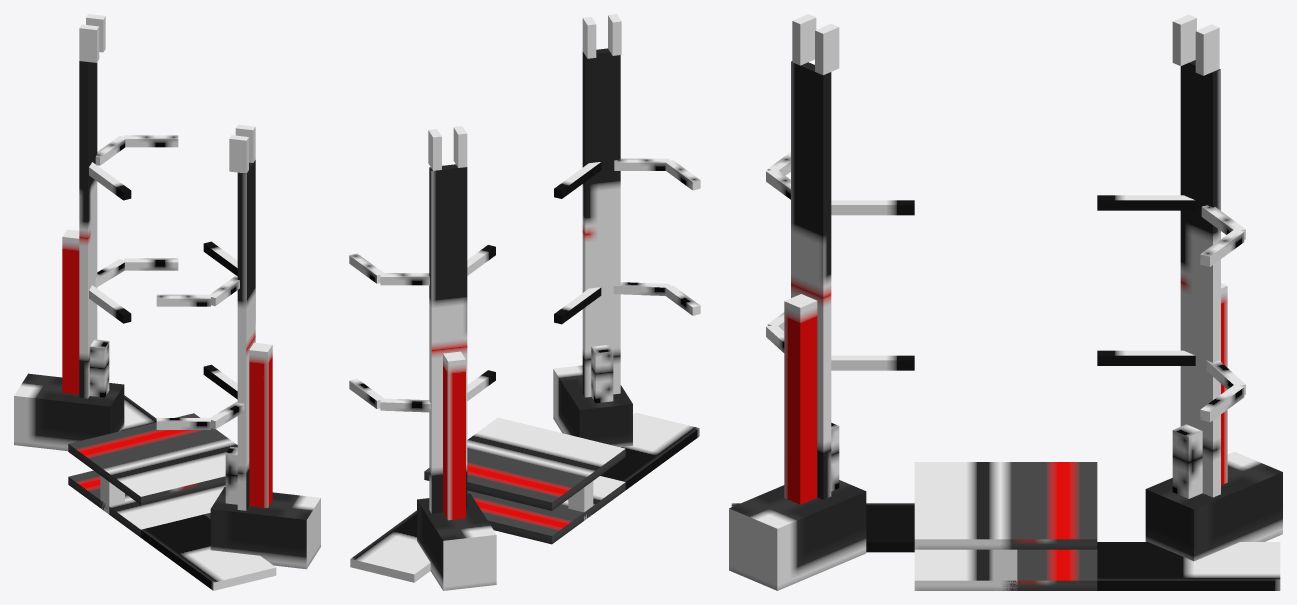
Rendered from launcher_tier_2.obj.
3 views of the same model, side by side, from view 1: azimuth 30°, elevation 25°; view 2: azimuth 150°, elevation 25°; view 3: azimuth 270°, elevation 25° (orthographic). The views are drawn at different scales.
Parts seen in each view (by area): view 1: Shape6, Shape16.001, Shape16, Shape11, Shape11.001, railA.001_Shape15.001, Shape12.001, Base_Shape1, Shape12, Shape13, Shape14, Shape20.001 (+17 smaller); view 2: Shape11.001, Shape6, Shape11, Shape16, Shape16.001, Base_Shape1, Shape12, railA.001_Shape15.001, railA_Shape15, Shape13.001, Shape22.001, Shape23.001 (+13 smaller); view 3: Shape6, Shape11, Shape11.001, Shape16.001, Shape16, railA_Shape15, Base_Shape1, Shape12.001, railA.001_Shape15.001, Shape13, Shape23, Shape22 (+10 smaller).
Part boxes in pixels (x1,y1,x2,y2): Shape6: [68, 413, 237, 504]; Shape16.001: [210, 487, 320, 569]; Shape16: [14, 373, 124, 450]; Shape11: [79, 61, 97, 398]; Shape11.001: [237, 160, 255, 510]; railA.001_Shape15.001: [141, 514, 276, 590]; Shape12.001: [249, 342, 272, 507]; Base_Shape1: [68, 470, 225, 537]; Shape12: [62, 229, 79, 394]; Shape13: [89, 339, 109, 397]; Shape14: [79, 24, 99, 62]; Shape20.001: [229, 135, 248, 173]; Shape11.001: [582, 48, 620, 397]; Shape6: [424, 417, 625, 510]; Shape11: [429, 164, 467, 513]; Shape16: [417, 493, 496, 590]; Shape16.001: [553, 365, 632, 447]; Base_Shape1: [467, 476, 625, 544]; Shape12: [443, 351, 465, 520]; railA.001_Shape15.001: [600, 412, 699, 489]; railA_Shape15: [350, 510, 487, 582]; Shape13.001: [591, 345, 613, 403]; Shape22.001: [554, 287, 601, 324]; Shape23.001: [554, 162, 601, 198]; Shape6: [914, 462, 1097, 549]; Shape11: [1180, 60, 1220, 497]; Shape11.001: [791, 61, 831, 499]; Shape16.001: [729, 480, 866, 590]; Shape16: [1145, 451, 1282, 561]; railA_Shape15: [1097, 542, 1280, 590]; Base_Shape1: [914, 549, 1097, 590]; Shape12.001: [784, 294, 817, 504]; railA.001_Shape15.001: [731, 503, 914, 552]; Shape13: [1172, 424, 1202, 498]; Shape23: [1097, 195, 1195, 210]; Shape22: [1097, 350, 1195, 365].
Bounding box in the file's own units: 1.46 × 3.19 × 3.03.
